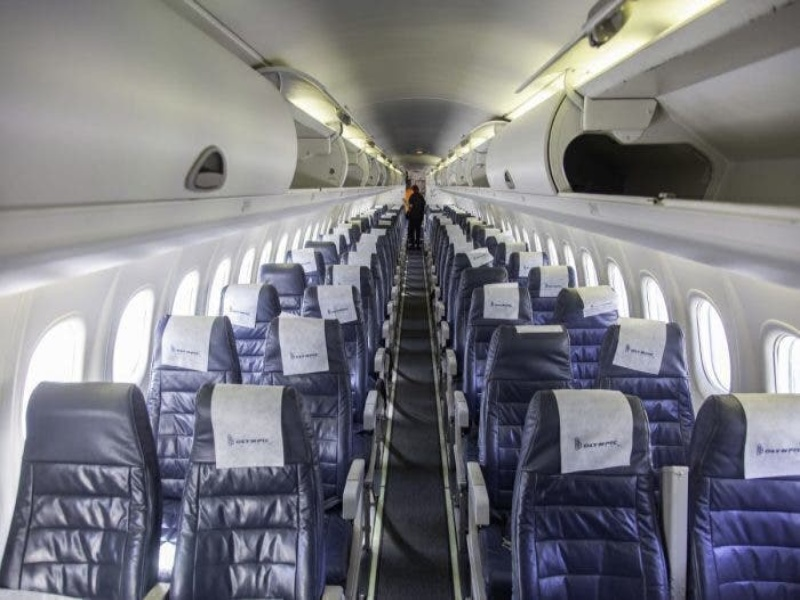close_bin: (3, 5, 303, 231), (487, 93, 572, 200)
open_bin: (548, 9, 800, 223), (278, 76, 348, 193), (340, 129, 371, 194), (463, 138, 495, 192), (362, 142, 382, 191), (446, 153, 468, 190)
